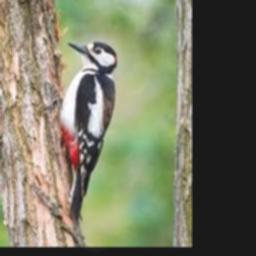Woodpecker: (60, 43, 117, 223)
